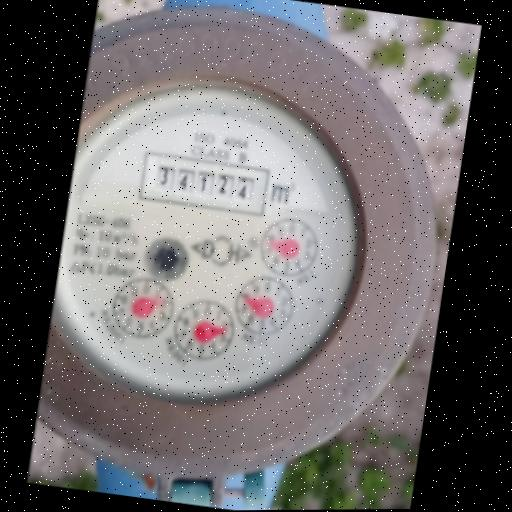1: (197, 172, 215, 196)
2: (218, 175, 234, 198)
3: (156, 167, 174, 192)
4: (177, 170, 195, 194), (237, 178, 254, 201)
border_water_meter_number: (137, 150, 271, 217)
